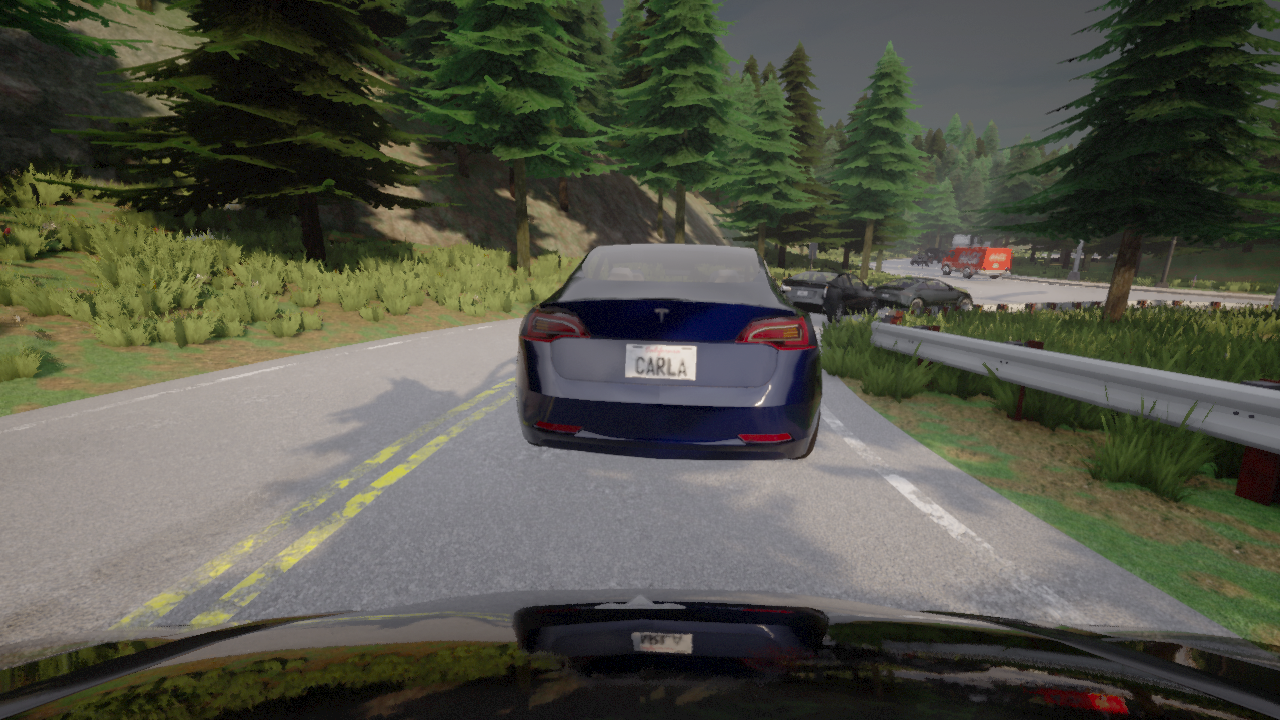cyclist: (0, 588, 1279, 719), (516, 243, 822, 459), (780, 271, 877, 323), (873, 277, 972, 308), (937, 246, 1012, 278), (942, 234, 982, 253), (772, 278, 792, 304), (911, 251, 933, 265), (926, 247, 942, 263), (915, 255, 921, 267), (1012, 253, 1013, 257)
pedestrian: (1189, 273, 1198, 290)
